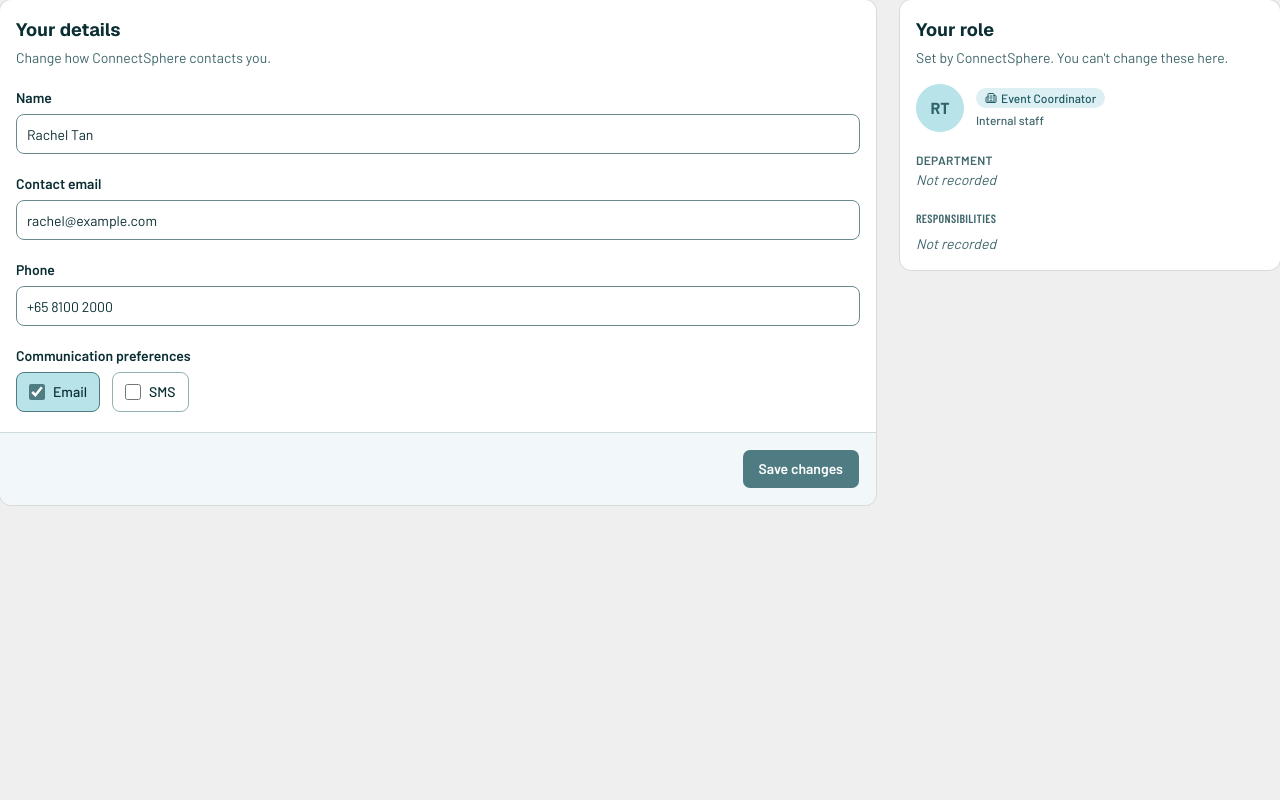
Test: SCRUM-68/AC6 profile form: saving › 68-S13: shows a message at the top, not 'Profile updated.', when the service could not be reached
Click the button "Save changes" at coordinates (801, 469), box [742, 449, 860, 489]
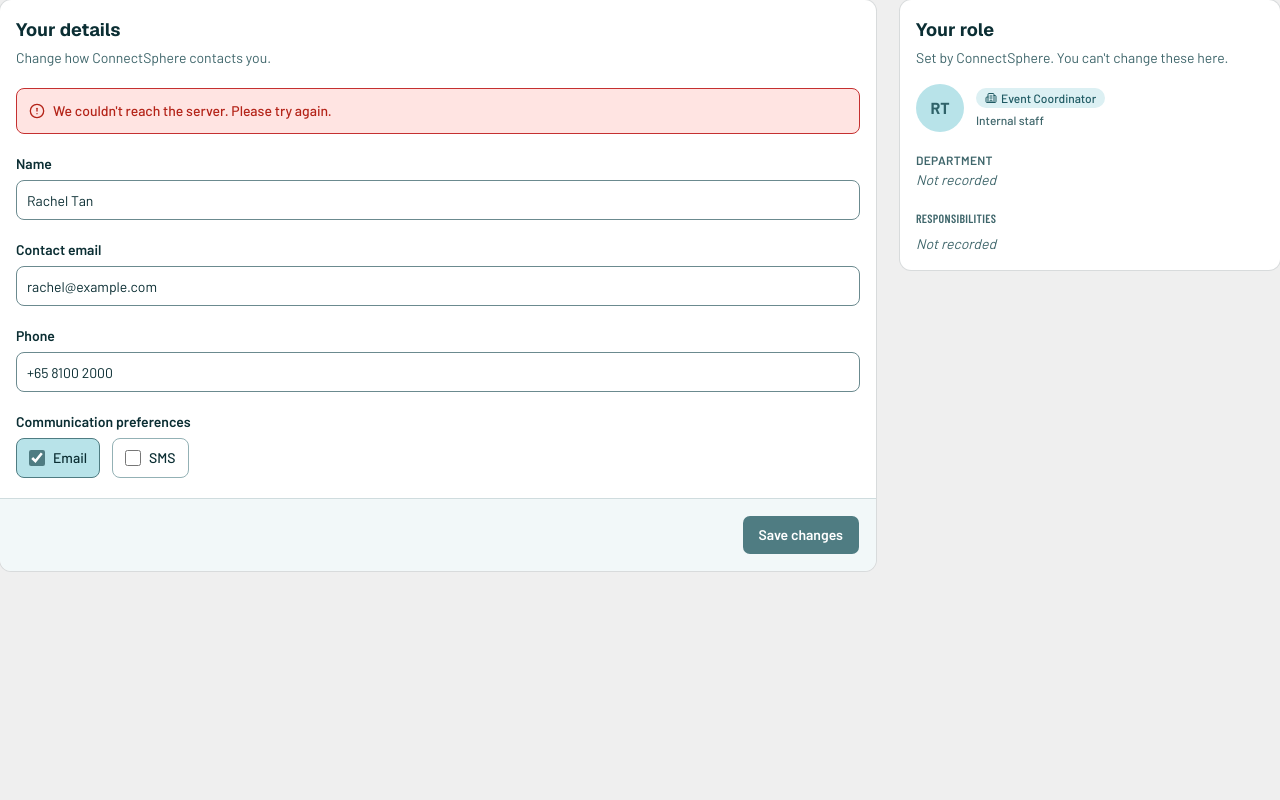
expect the message reads "We couldn't reach the server. Please try again.": met, box [53, 102, 332, 119]
